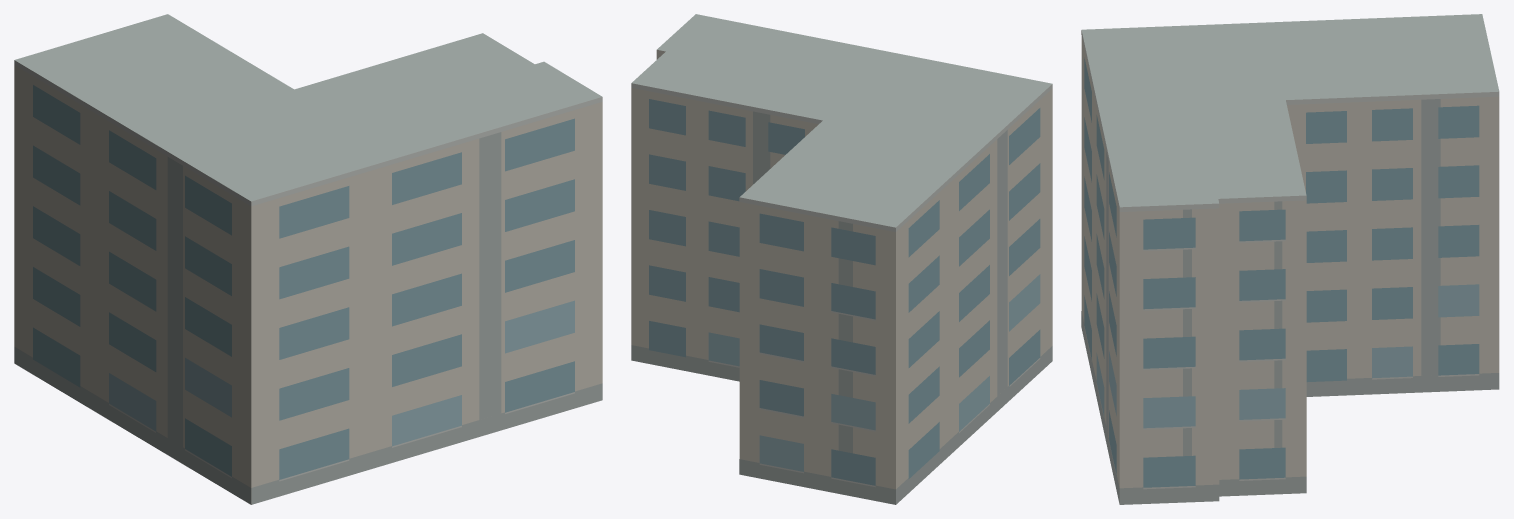
Rendered from survey-upis-32638640.glb.
3 views of the same model, side by side, from view 1: azimuth 30°, elevation 25°; view 2: azimuth 150°, elevation 25°; view 3: azimuth 270°, elevation 25° (orthographic). The views are drawn at different scales.
Visible parts, largest first — view 1: survey-upis-32638640.tmp; view 2: survey-upis-32638640.tmp; view 3: survey-upis-32638640.tmp.
Boxes of the visible parts, left/top/right/bottom form: survey-upis-32638640.tmp: left=14, top=14, right=602, bottom=504; survey-upis-32638640.tmp: left=631, top=14, right=1052, bottom=504; survey-upis-32638640.tmp: left=1081, top=14, right=1499, bottom=504.
Size of the model in its own units: 20.75 by 14.9 by 18.97.
